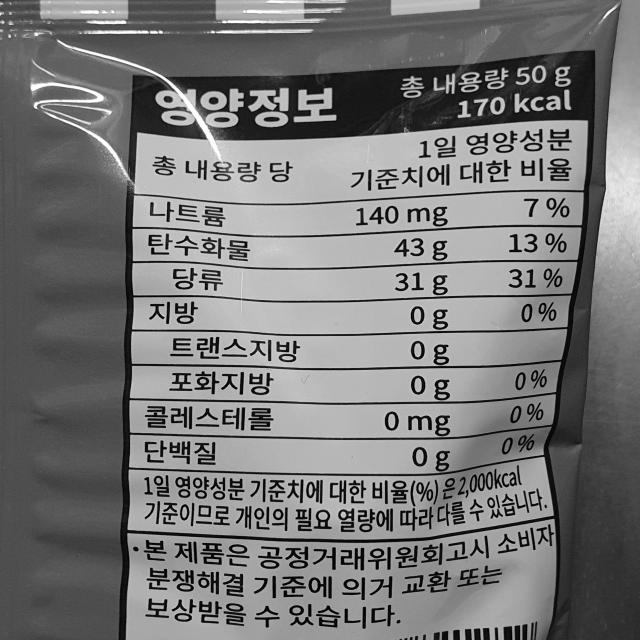Nutrition Label: (110, 51, 594, 550)
